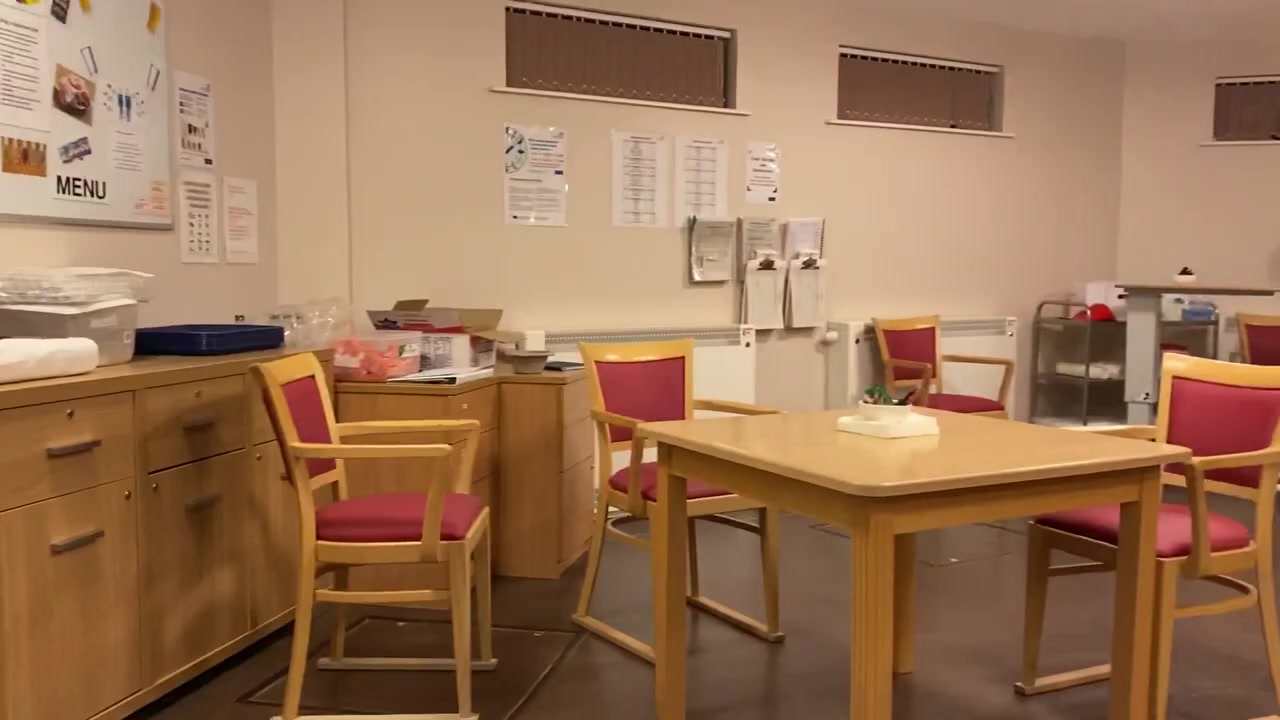chair: (1014, 352, 1280, 720), (247, 352, 499, 720), (570, 340, 784, 666), (870, 314, 1015, 419), (1234, 310, 1280, 366)
counter: (1, 343, 336, 720), (337, 360, 599, 579)
curtain: (503, 1, 737, 112), (836, 48, 1006, 136), (1212, 78, 1280, 142)
handle: (50, 529, 104, 555), (45, 440, 102, 459), (184, 494, 224, 511), (182, 421, 215, 430)
table: (636, 405, 1192, 720), (1119, 280, 1272, 420)
utility_cart: (1027, 299, 1221, 431)
